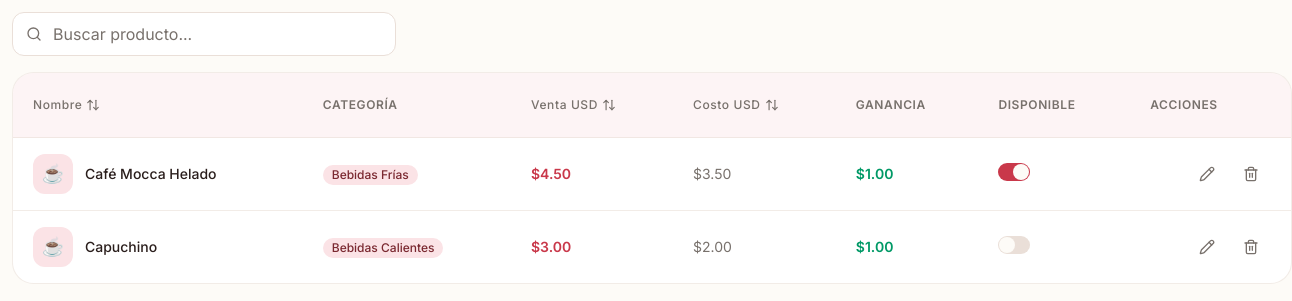
Test: ProductsDataTable (catálogo) › filtra productos por la búsqueda global
The image size is (1292, 301).
Type "capuchino" into the search field labelled "Buscar producto...".
click(204, 34); type("capuchino")  # box [12, 12, 396, 56]
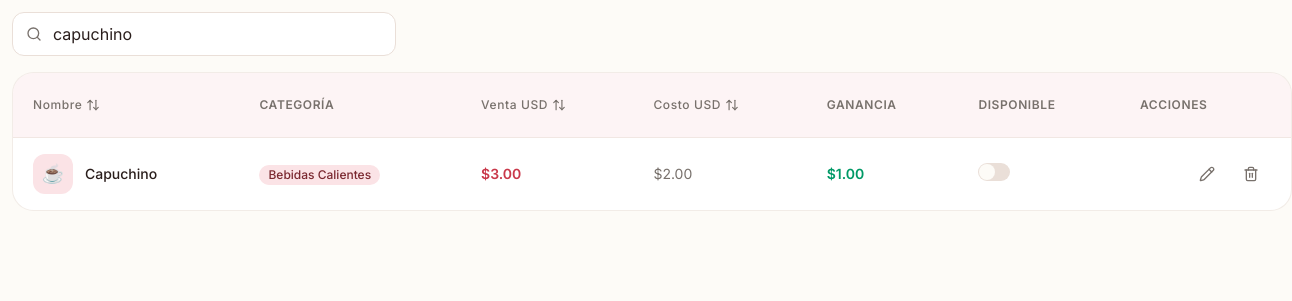
Check: the text "Café Mocca Helado" is gone
Check: the text "Capuchino" is shown 2 times
